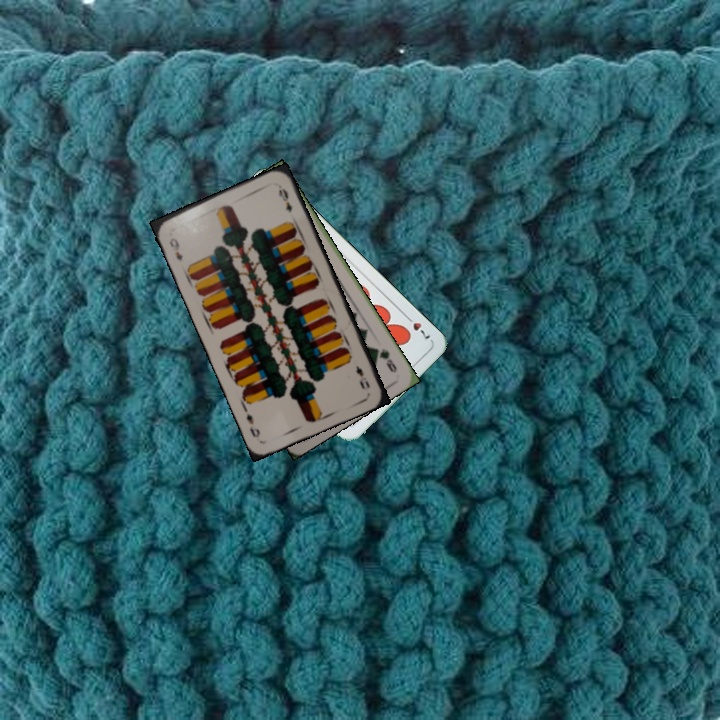E9: (165, 234, 186, 263), (352, 361, 372, 391)
G9: (370, 343, 400, 375)
H7: (401, 311, 433, 343)
